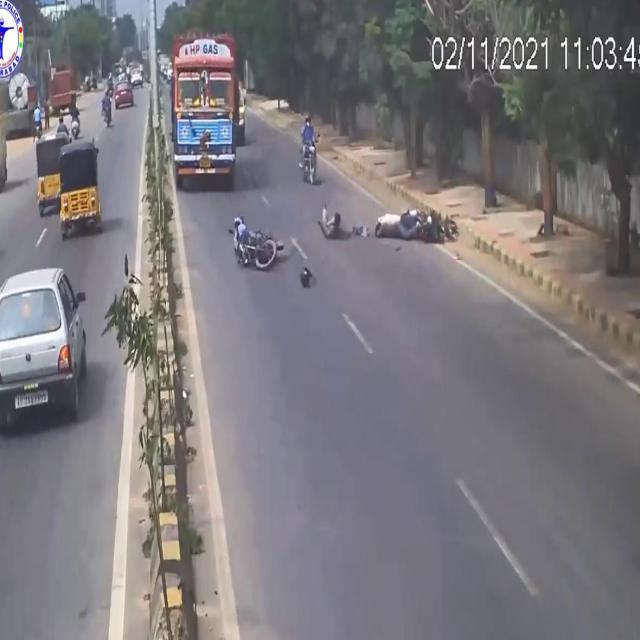accident: (314, 194, 461, 254), (222, 185, 290, 283)
non_accident: (166, 36, 248, 188), (31, 110, 107, 242), (118, 35, 150, 113)
